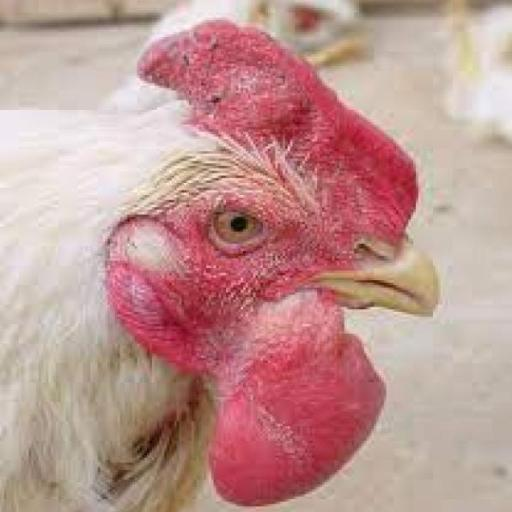disease: (170, 38, 340, 138)
